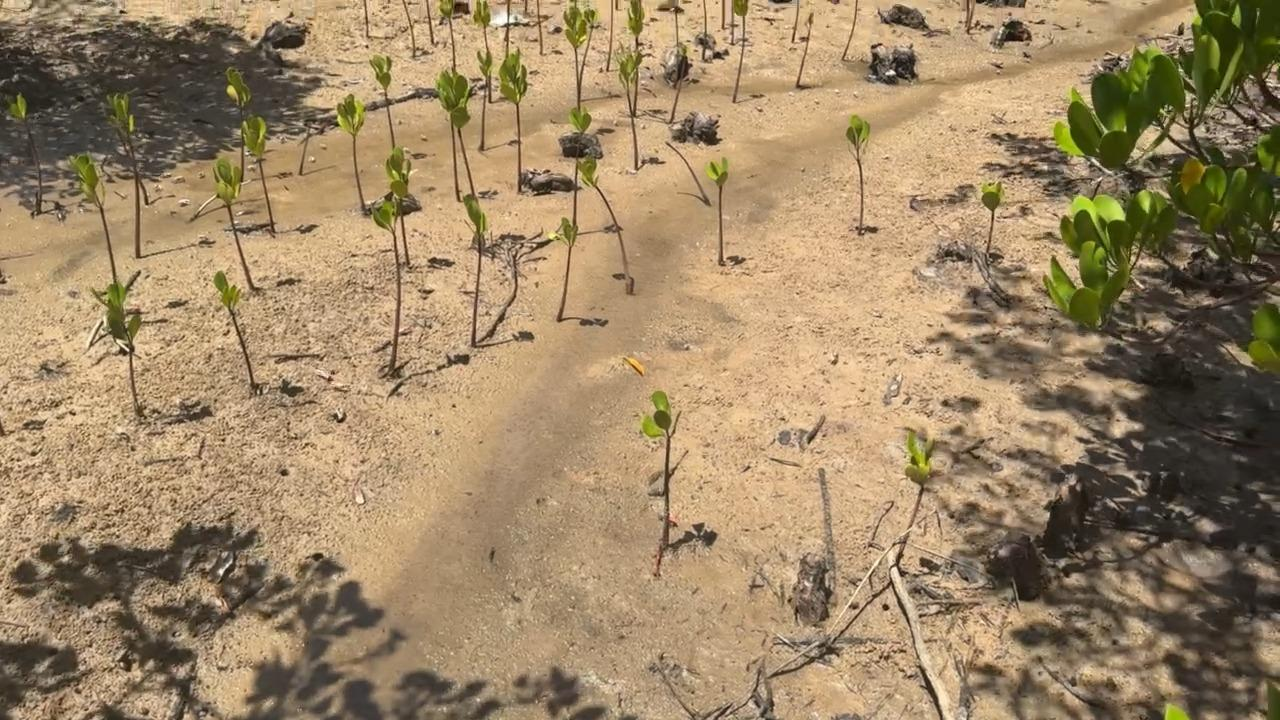Tree: (368, 146, 412, 373), (550, 109, 592, 322), (575, 154, 632, 293), (90, 281, 141, 409), (68, 153, 116, 283), (643, 391, 684, 542), (102, 94, 149, 204), (213, 159, 253, 288), (214, 272, 255, 384), (113, 92, 141, 256), (498, 47, 528, 192), (436, 65, 468, 198), (4, 93, 41, 208), (240, 115, 275, 232), (903, 429, 936, 551), (336, 91, 367, 213), (463, 193, 487, 346), (563, 0, 597, 108), (615, 41, 641, 168), (224, 66, 250, 183), (846, 114, 871, 233), (452, 85, 477, 197), (666, 142, 709, 202), (368, 54, 396, 145), (707, 156, 728, 263), (626, 0, 644, 114), (472, 0, 492, 100), (981, 179, 1004, 255), (731, 0, 748, 101), (476, 49, 493, 149), (656, 0, 692, 44), (670, 44, 687, 121), (439, 0, 456, 72), (797, 12, 813, 86), (842, 0, 858, 59), (401, 0, 417, 58), (300, 121, 311, 176), (425, 0, 435, 43), (504, 0, 511, 57), (963, 0, 976, 30), (791, 0, 800, 41), (607, 0, 612, 71), (538, 0, 543, 55), (701, 0, 708, 36), (364, 0, 369, 38), (721, 0, 726, 31)
